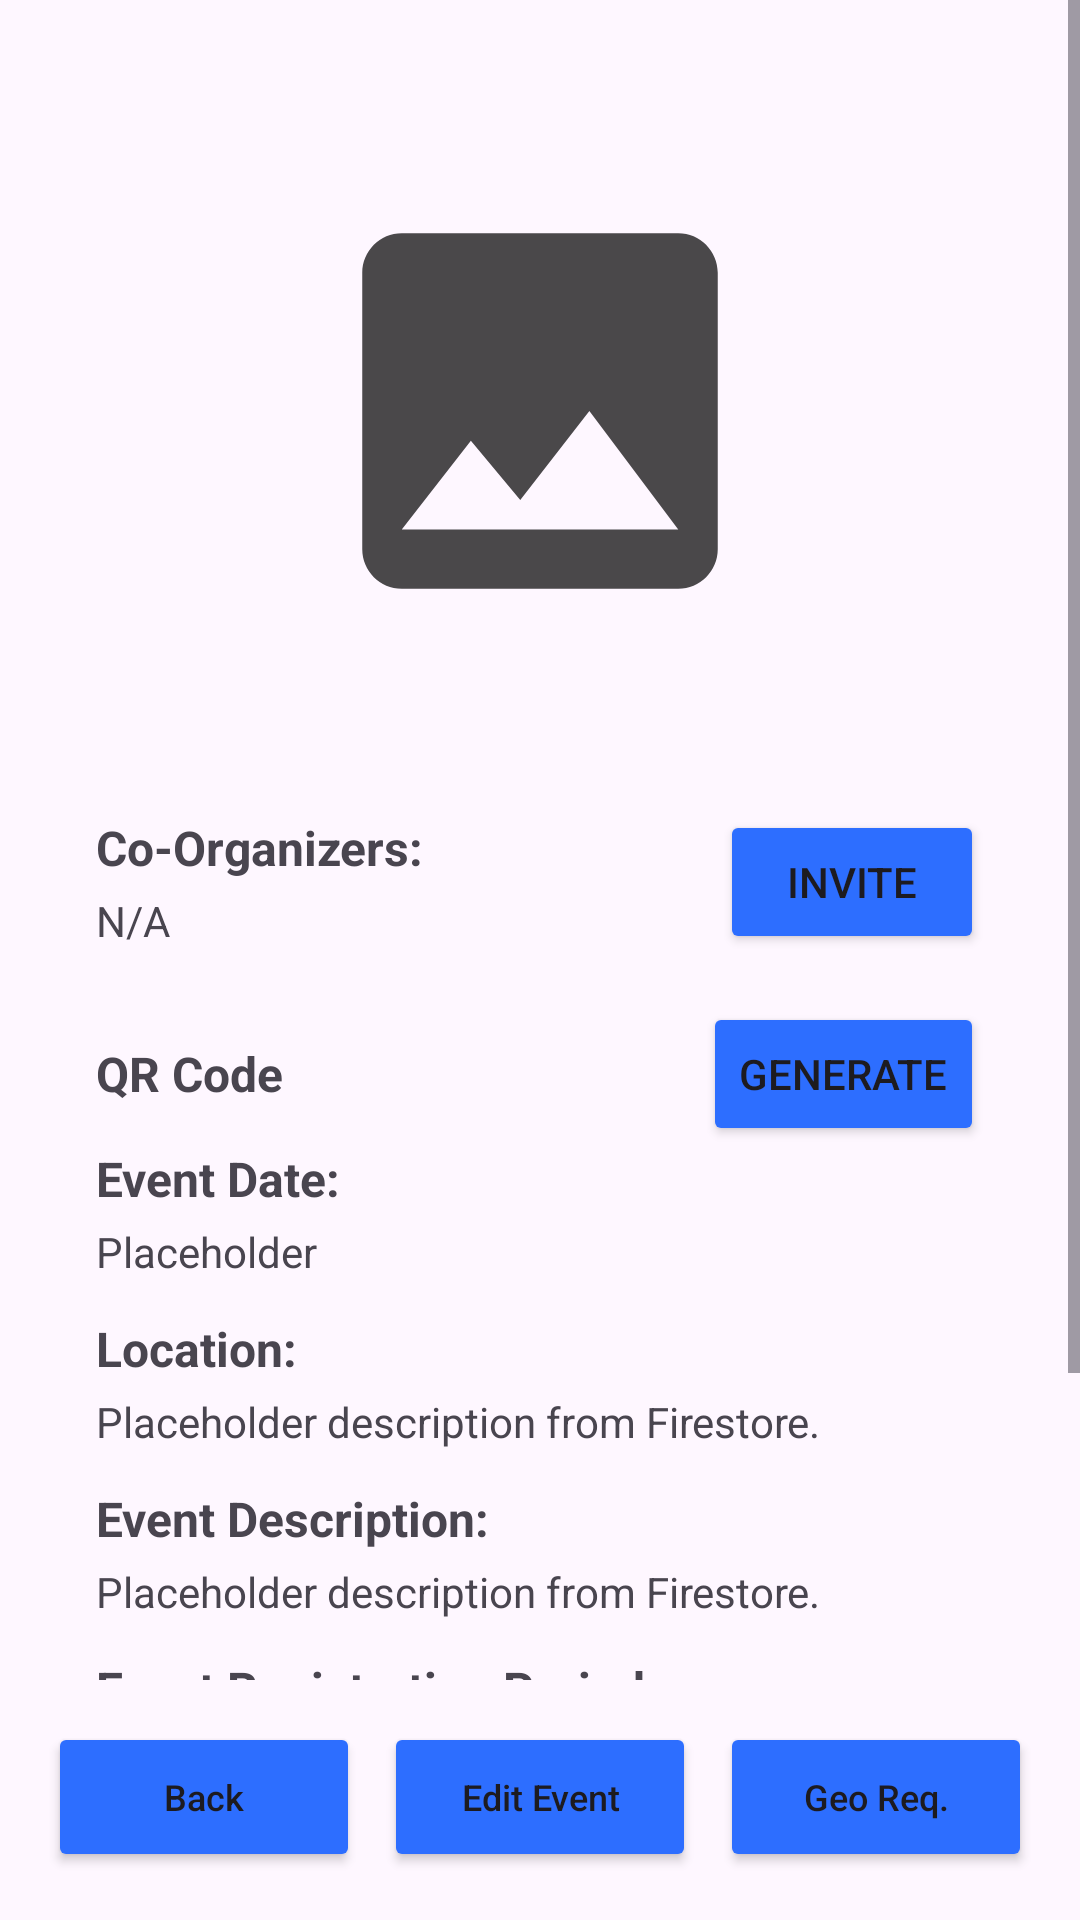

Locate icon controls on the screen. Image size 1080 × 1920, boxes as bbox=[x1, y1, x2, y2].
No Event Poster Uploaded: bbox=[362, 233, 718, 589]
